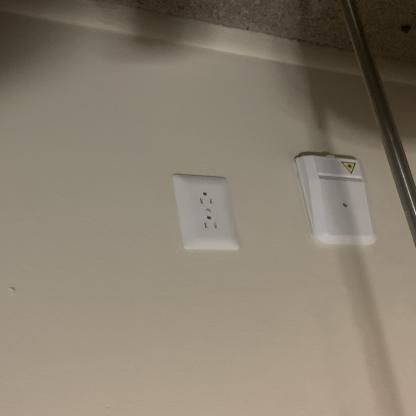OUTLET: (172, 176, 234, 250)
